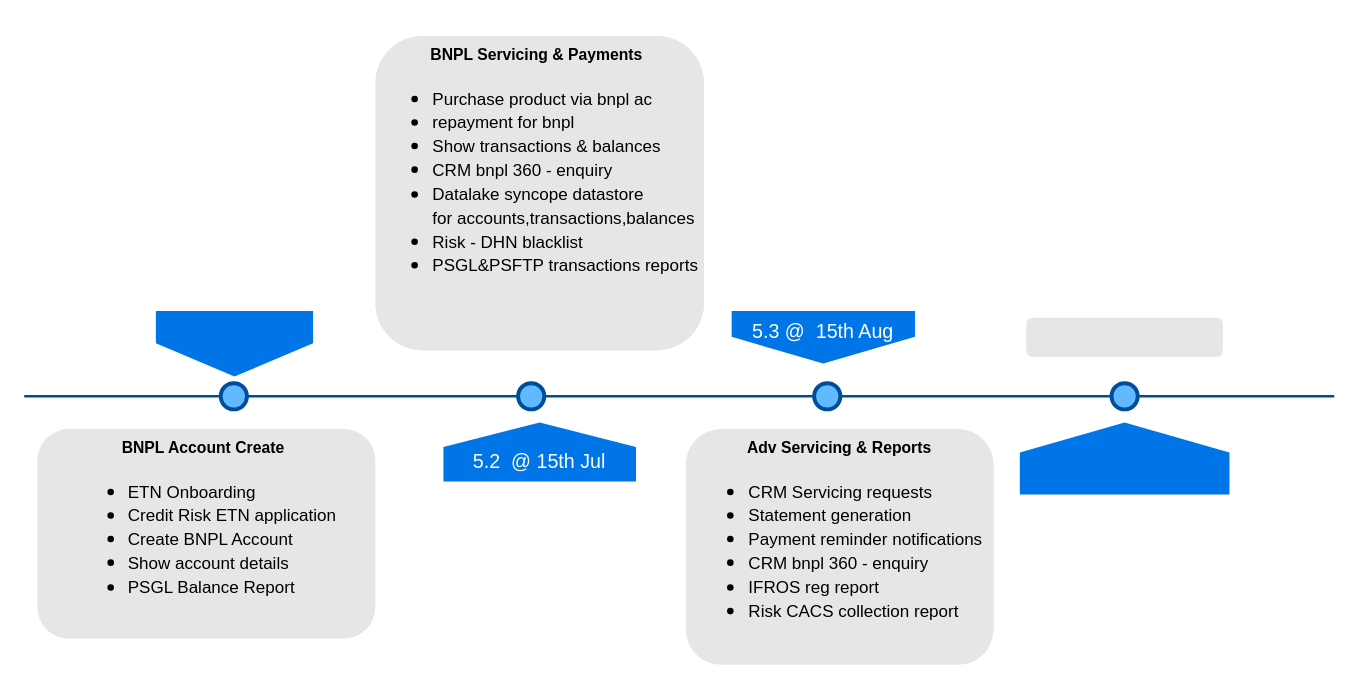
Image size: 1357x686. Some labels were removed from this diagram. The shapes that lost their labels are listed below. From the top down, each one's box as (x1, y1, x2, y2) in pixels, then its label:
(155, 310, 312, 376): 5.1 @15th Jun
(1026, 317, 1222, 356): Staff Launch
(1019, 422, 1229, 494): Alpha launch @ 15th Oct
